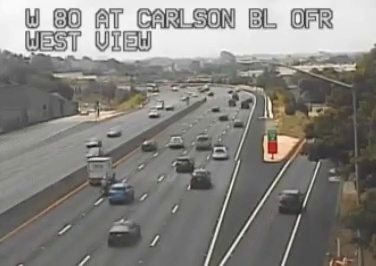car: (108, 223, 138, 245), (278, 190, 301, 214), (107, 183, 133, 204), (189, 169, 210, 189), (175, 156, 194, 172), (195, 134, 211, 150), (211, 146, 226, 158), (168, 136, 183, 147)
motorcycle: (99, 175, 109, 196)
small-truck: (87, 156, 115, 183)
